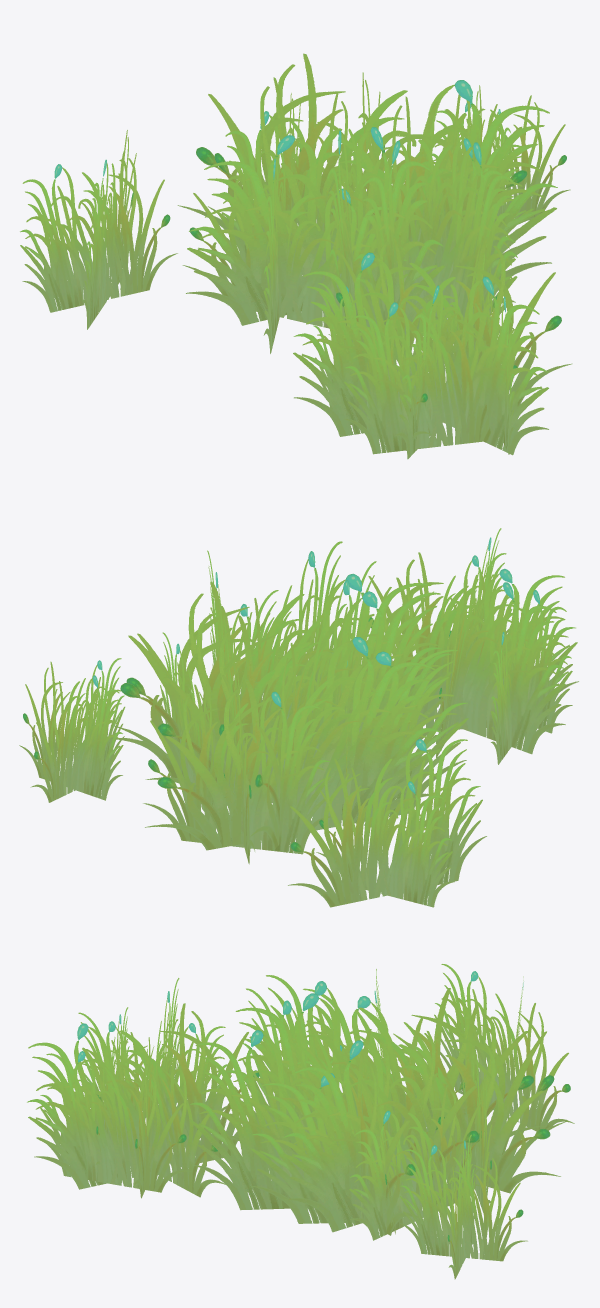
File: SM_grass_base_05_ZYF_home.fbx
3 views of the same model, one above another, from view 1: azimuth 30°, elevation 25°; view 2: azimuth 150°, elevation 25°; view 3: azimuth 270°, elevation 25° (orthographic). The views are drawn at different scales.
Parts seen in each view (by area): view 1: SM_grass_base_05_ZYF_home.mo; view 2: SM_grass_base_05_ZYF_home.mo; view 3: SM_grass_base_05_ZYF_home.mo.
Part boxes in pixels (x1,y1,x2,y2): SM_grass_base_05_ZYF_home.mo: (20, 53, 572, 459); SM_grass_base_05_ZYF_home.mo: (19, 528, 578, 907); SM_grass_base_05_ZYF_home.mo: (27, 964, 574, 1279).
Size of the model in its own units: 1.98 by 0.8564 by 2.19.
